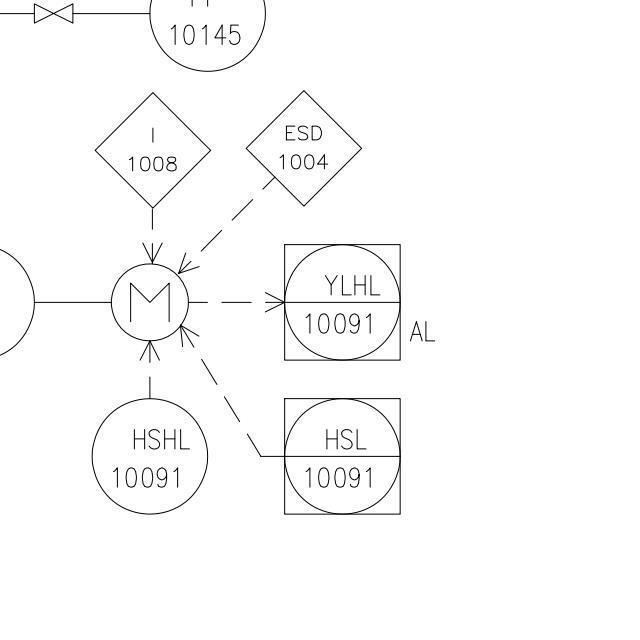GV: (29, 0, 78, 24)
M: (109, 262, 188, 345)
